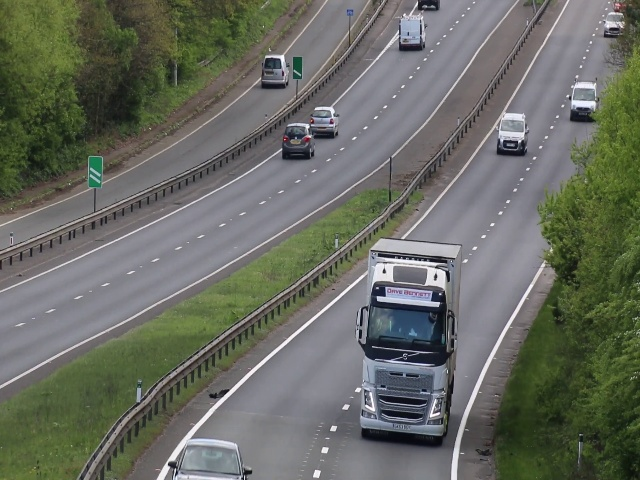car: (170, 440, 247, 480), (495, 111, 529, 156), (282, 123, 316, 161), (568, 81, 599, 120), (258, 52, 291, 88), (397, 13, 427, 50), (310, 106, 339, 138), (605, 10, 622, 38)
